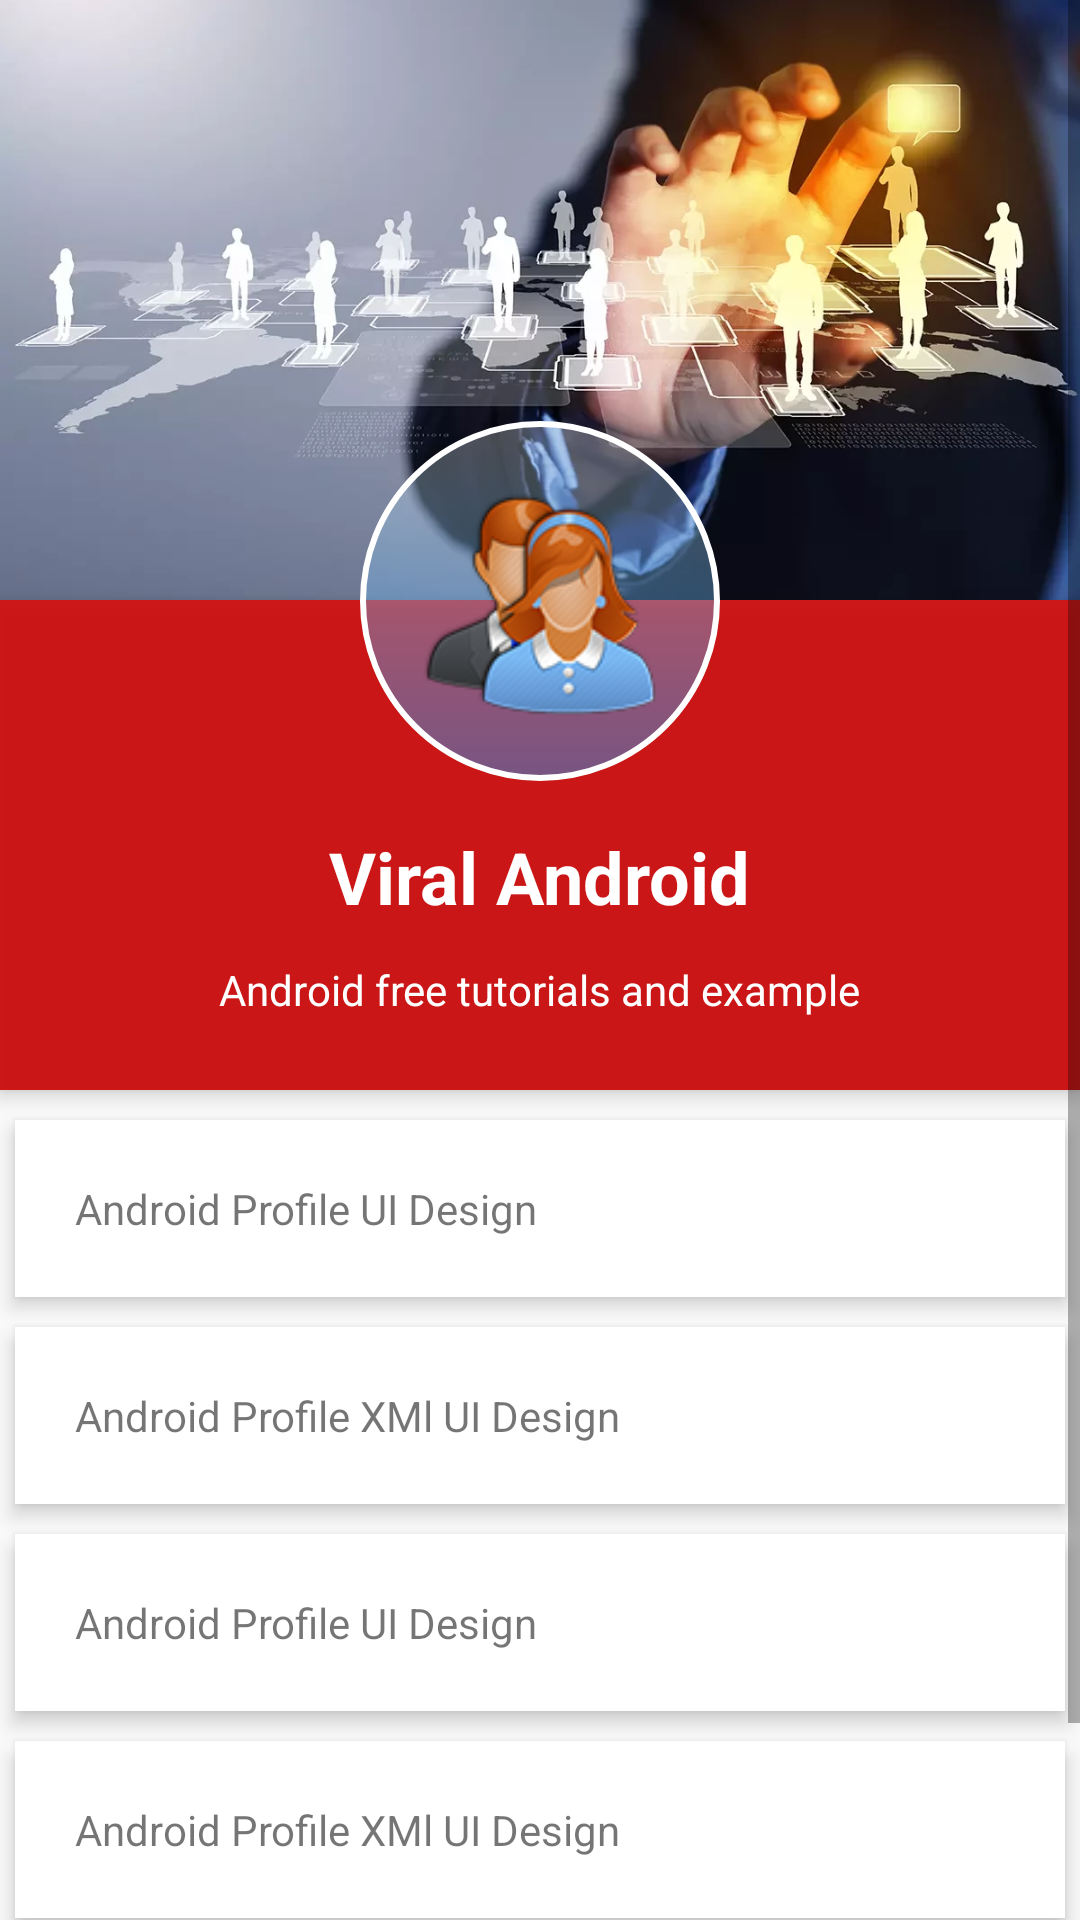

Screen size 1080px×1920px. Icon name, then its center in pixels as point (x, y):
customer: point (540, 601)
